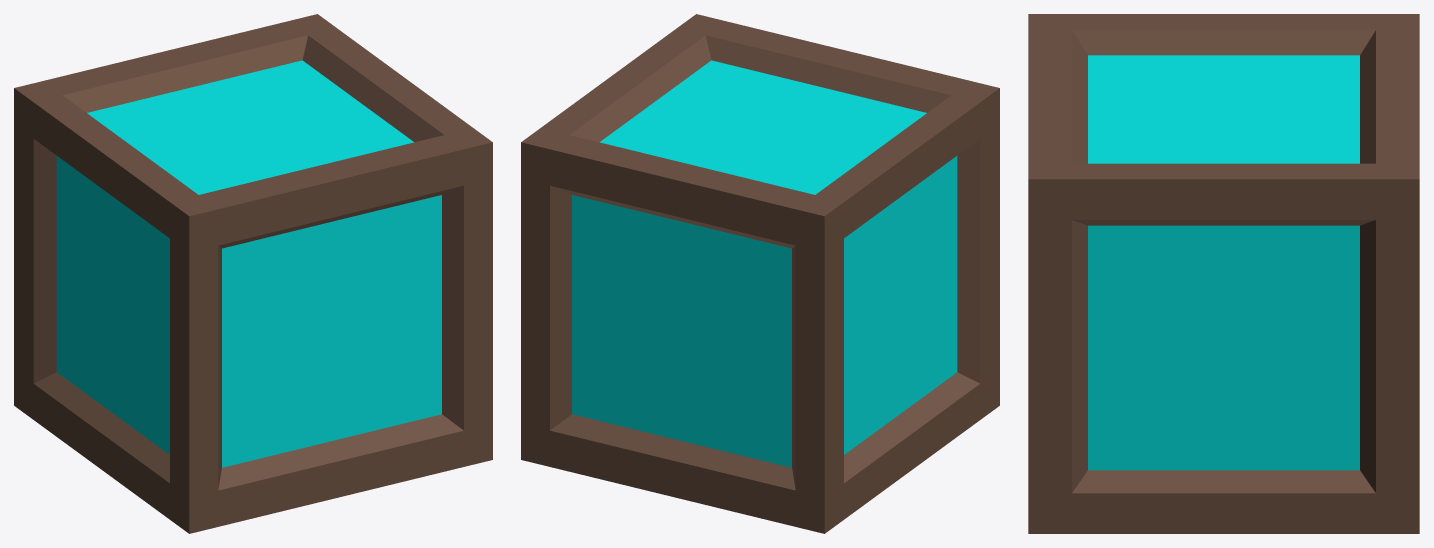
The model's file is Pickup.fbx.
3 views of the same model, side by side, from view 1: azimuth 30°, elevation 25°; view 2: azimuth 150°, elevation 25°; view 3: azimuth 270°, elevation 25° (orthographic). The views are drawn at different scales.
Parts seen in each view (by area): view 1: pCube1; view 2: pCube1; view 3: pCube1.
Part boxes in pixels (x1,y1,x2,y2): pCube1: (14,14,492,533); pCube1: (521,14,999,533); pCube1: (1028,14,1419,533).
Bounding box in the file's own units: 1 × 1 × 1.
